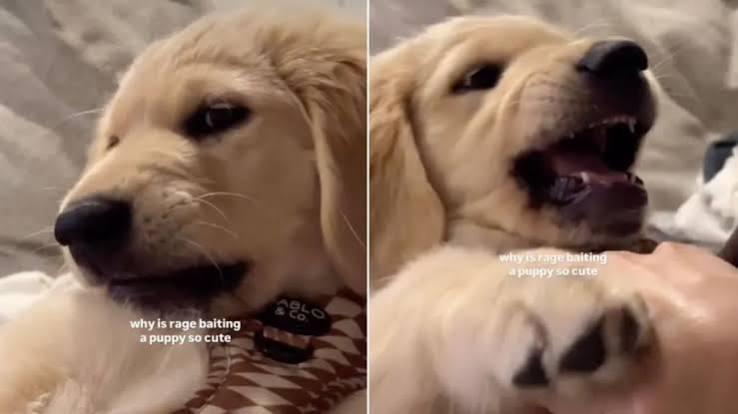puppy-dog: (0, 2, 367, 412), (370, 8, 675, 414)
